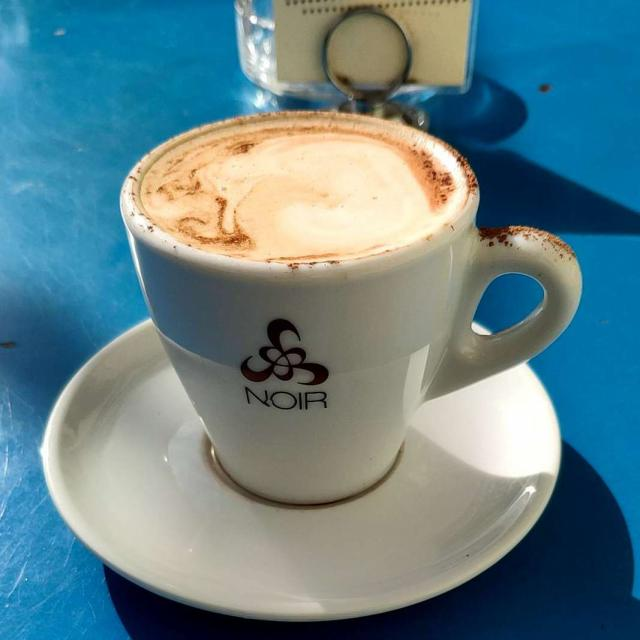cappuccino: (144, 123, 459, 255)
